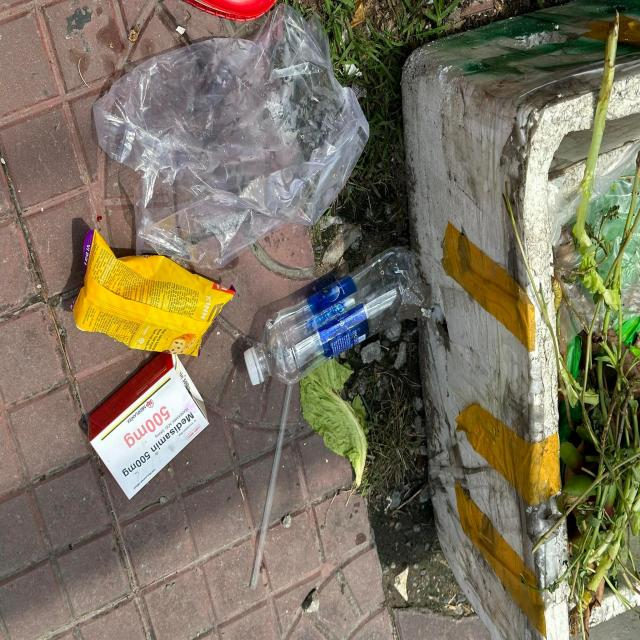bag: (92, 4, 370, 271)
bottle: (243, 246, 420, 386)
cardboard box: (88, 352, 210, 500)
drinking straw: (250, 382, 292, 590)
snack package: (70, 229, 236, 358)
